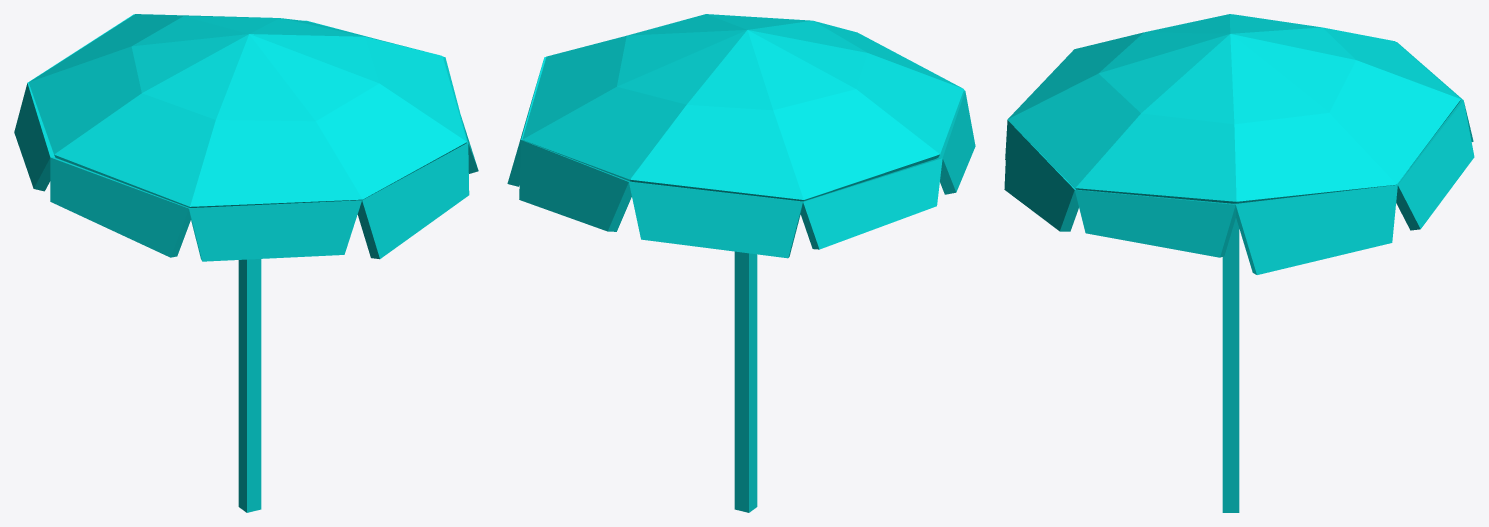
File: SM_Prop_Umbrella_01_Collision.fbx
3 views of the same model, side by side, from view 1: azimuth 30°, elevation 25°; view 2: azimuth 150°, elevation 25°; view 3: azimuth 270°, elevation 25° (orthographic).
Visible parts, largest first — view 1: SM_Prop_Umbrella_01_Collision; view 2: SM_Prop_Umbrella_01_Collision; view 3: SM_Prop_Umbrella_01_Collision.
Part boxes in pixels (<box>): SM_Prop_Umbrella_01_Collision: <box>14,14,478,512</box>; SM_Prop_Umbrella_01_Collision: <box>507,14,975,512</box>; SM_Prop_Umbrella_01_Collision: <box>1004,14,1474,512</box>.
Size of the model in its own units: 256 by 285 by 255.
